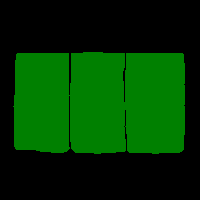mutande: (125, 52, 185, 154), (69, 52, 126, 154), (13, 52, 70, 153)
